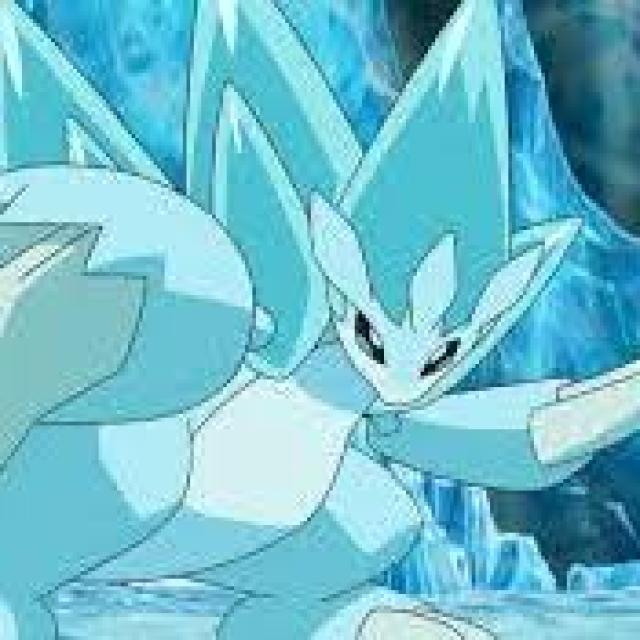Alolan: (6, 4, 569, 640)
